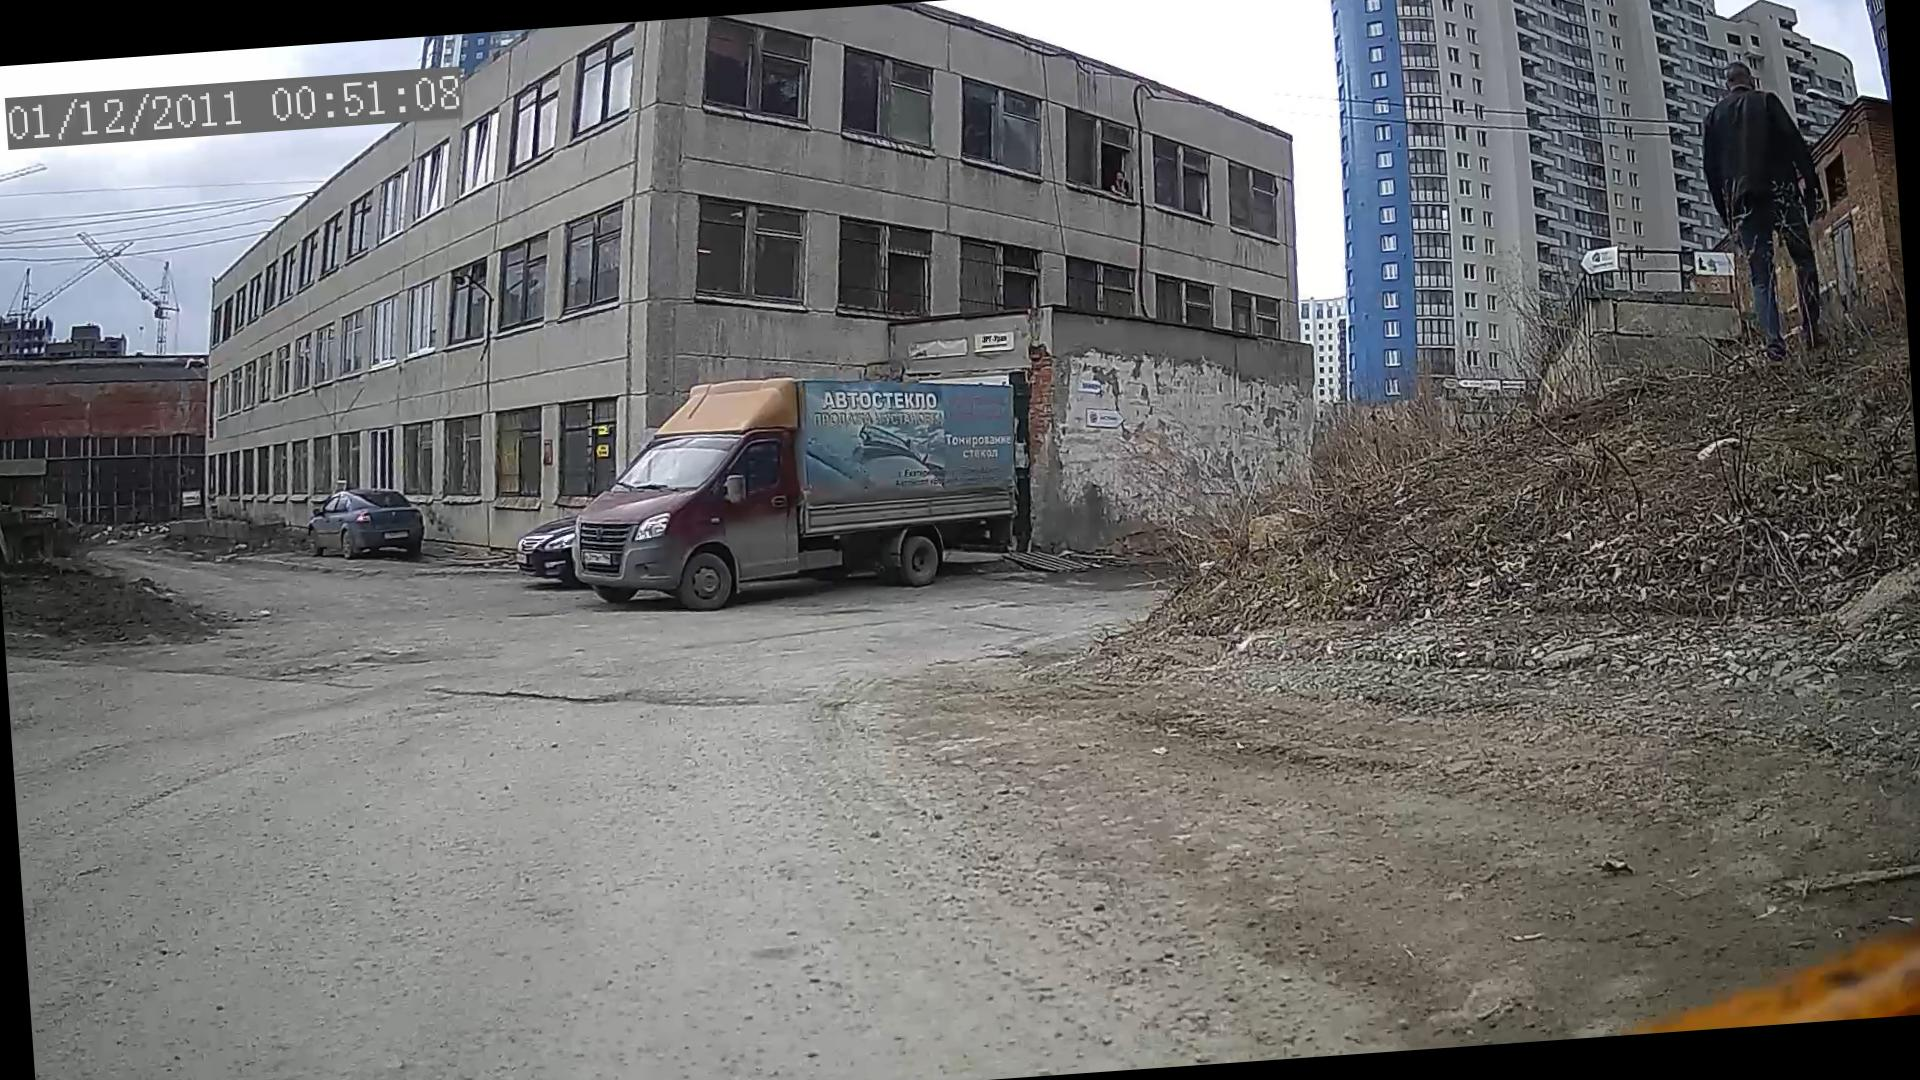plate: (583, 551, 617, 566)
